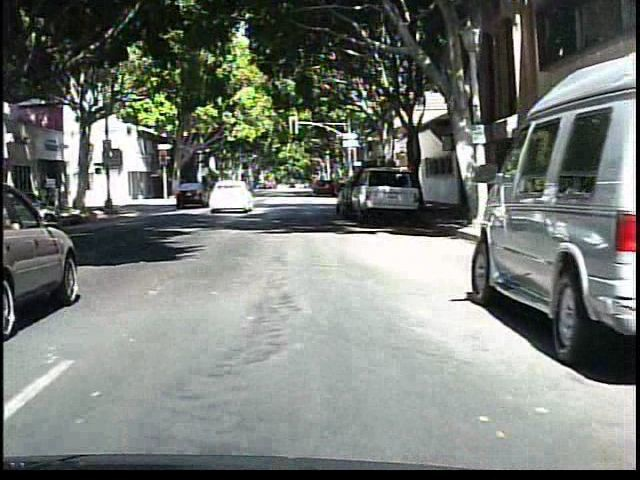person: (211, 171, 233, 210)
